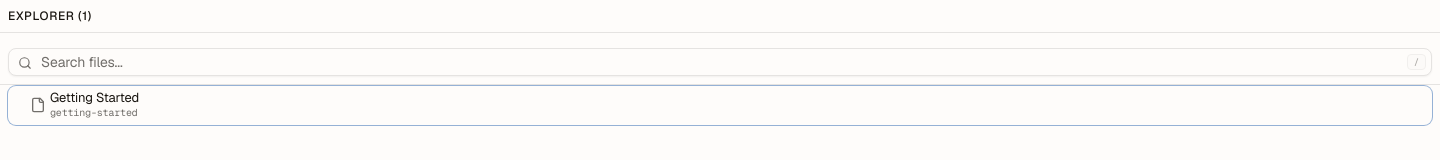
Test: FileTree route document rows › deletes the real leaf and omits route-bundle rename interactions
Later steps or results of the test are not shown.
Press F2 in the button "Getting Started getting-started", box [8,86,1432,124]
Double-click the button "Getting Started getting-started" at (94, 98), box [8,86,1432,124]
Right-click the button "Getting Started getting-started" at (94, 98), box [8,86,1432,124]
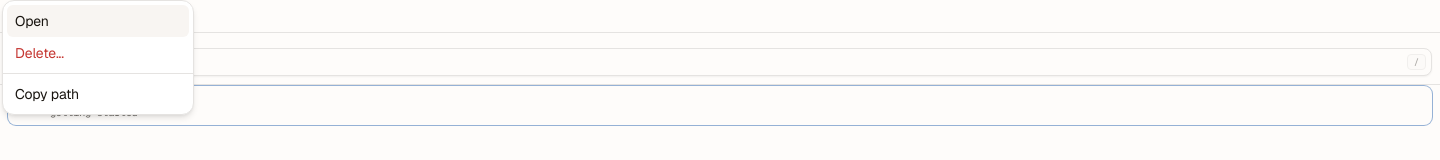
expect the menu item "Open" is shown: met, box [7,5,189,37]
